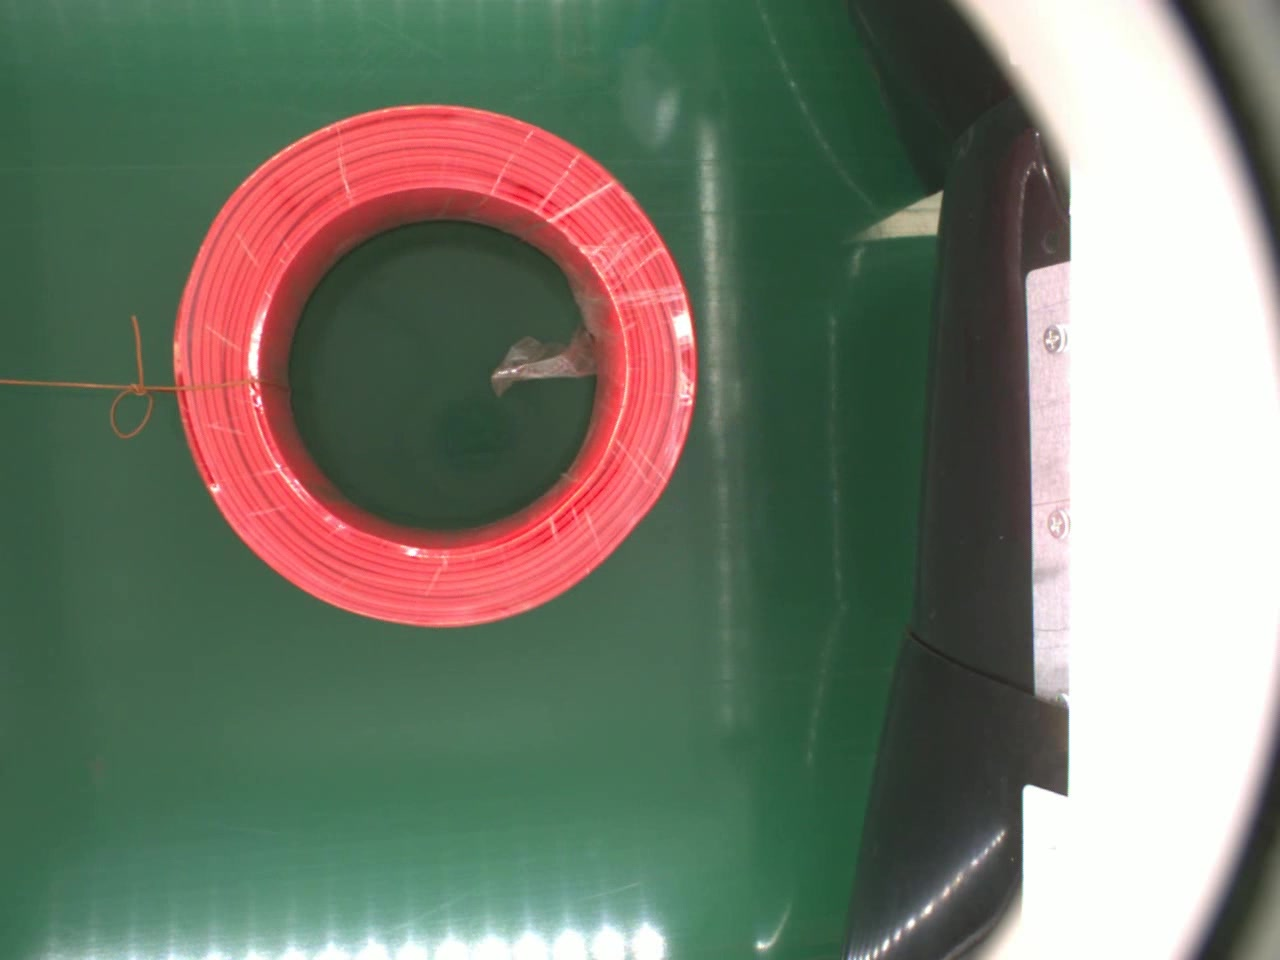red: (169, 103, 694, 629)
